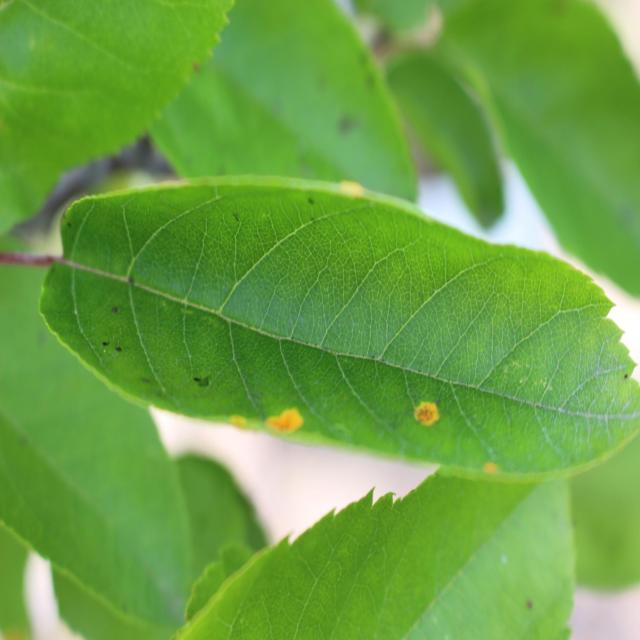Rust: (224, 383, 312, 459), (404, 383, 448, 446)
